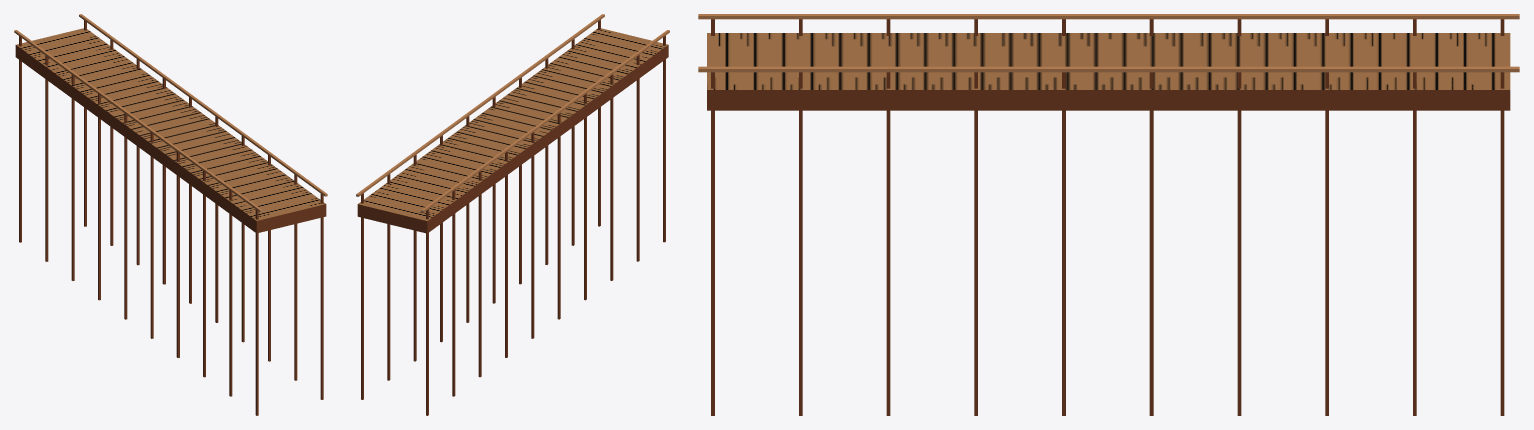
Rendered from Jembatan.fbx.
3 views of the same model, side by side, from view 1: azimuth 30°, elevation 25°; view 2: azimuth 150°, elevation 25°; view 3: azimuth 270°, elevation 25° (orthographic). The views are drawn at different scales.
Visible parts, largest first — view 1: Jembatan; view 2: Jembatan; view 3: Jembatan.
Boxes of the visible parts, x1,y1,x2,y2 form: Jembatan: (14,14,327,415); Jembatan: (356,14,669,415); Jembatan: (698,14,1519,415).
Size of the model in its own units: 1169 by 7152 by 3339.
